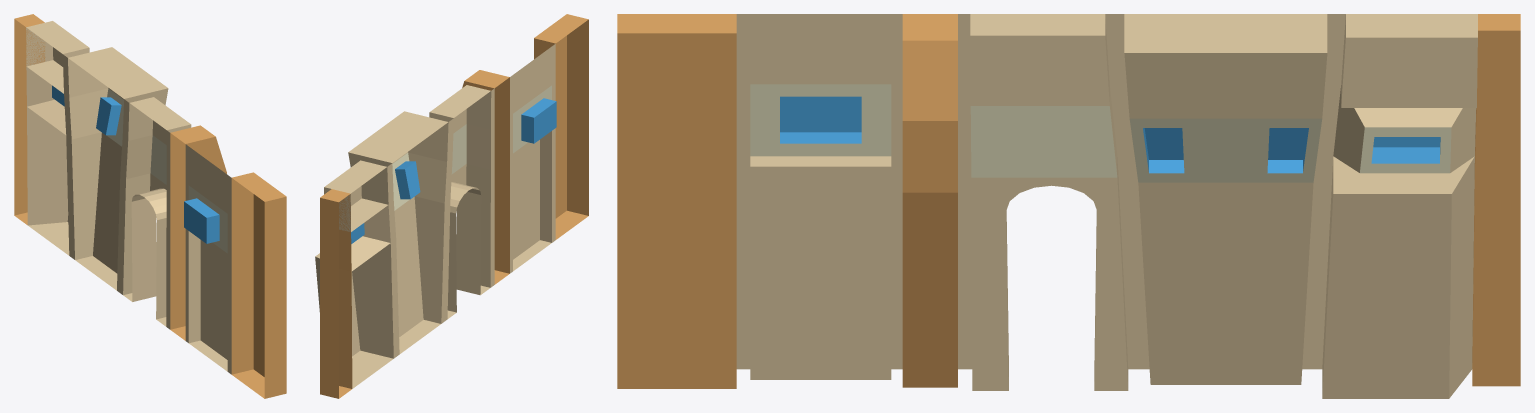
Rendered from wall.fbx.
The picture shows the model from 3 angles, left to right: view 1: azimuth 30°, elevation 25°; view 2: azimuth 150°, elevation 25°; view 3: azimuth 270°, elevation 25°; orthographic projection. The views are drawn at different scales.
Parts seen in each view (by area): view 1: Plane.002; view 2: Plane.002; view 3: Plane.002.
Boxes of the visible parts, left/top/right/bottom form: Plane.002: left=14, top=14, right=286, bottom=398; Plane.002: left=315, top=14, right=588, bottom=398; Plane.002: left=617, top=14, right=1520, bottom=398.
Bounding box in the file's own units: 430 × 1415 × 3260.
